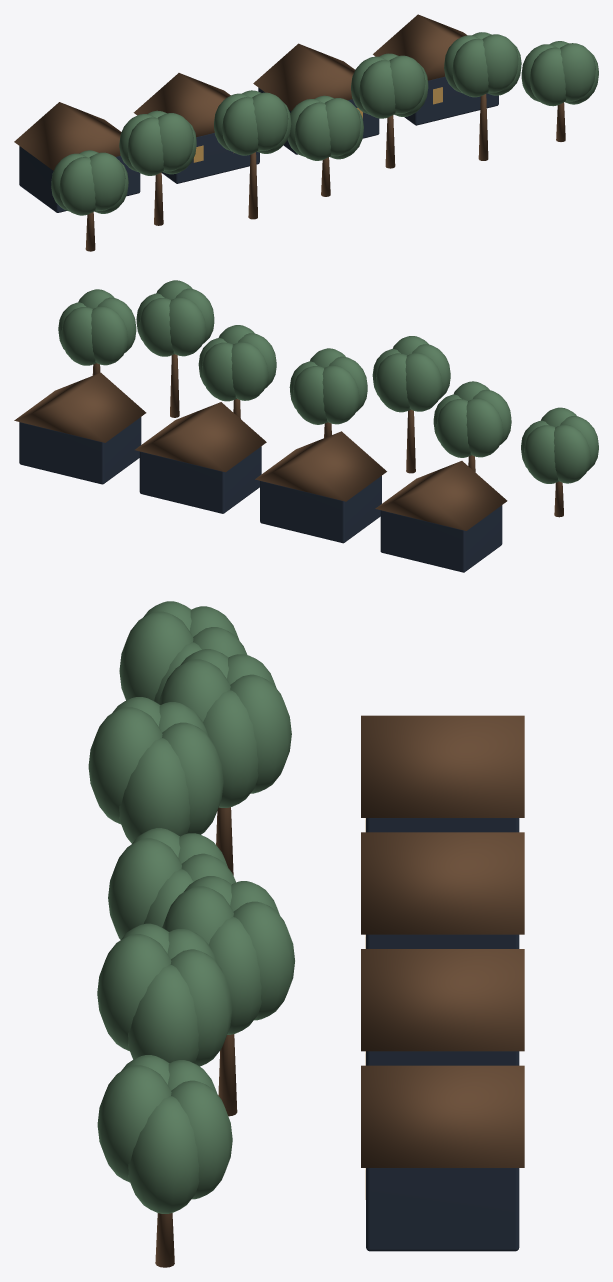
The model's file is night_landscape.glb.
The picture shows the model from 3 angles, top to bottom: view 1: azimuth 30°, elevation 25°; view 2: azimuth 150°, elevation 25°; view 3: azimuth 270°, elevation 25°; orthographic projection. The views are drawn at different scales.
Visible parts, largest first — view 1: House07_night_landscape; view 2: House07_night_landscape; view 3: House07_night_landscape.
Part boxes in pixels (left/top/right/bottom): House07_night_landscape: left=14, top=14, right=598, bottom=251; House07_night_landscape: left=14, top=280, right=598, bottom=572; House07_night_landscape: left=88, top=601, right=524, bottom=1267.
Bounding box in the file's own units: 24.11 × 5.49 × 8.53.
